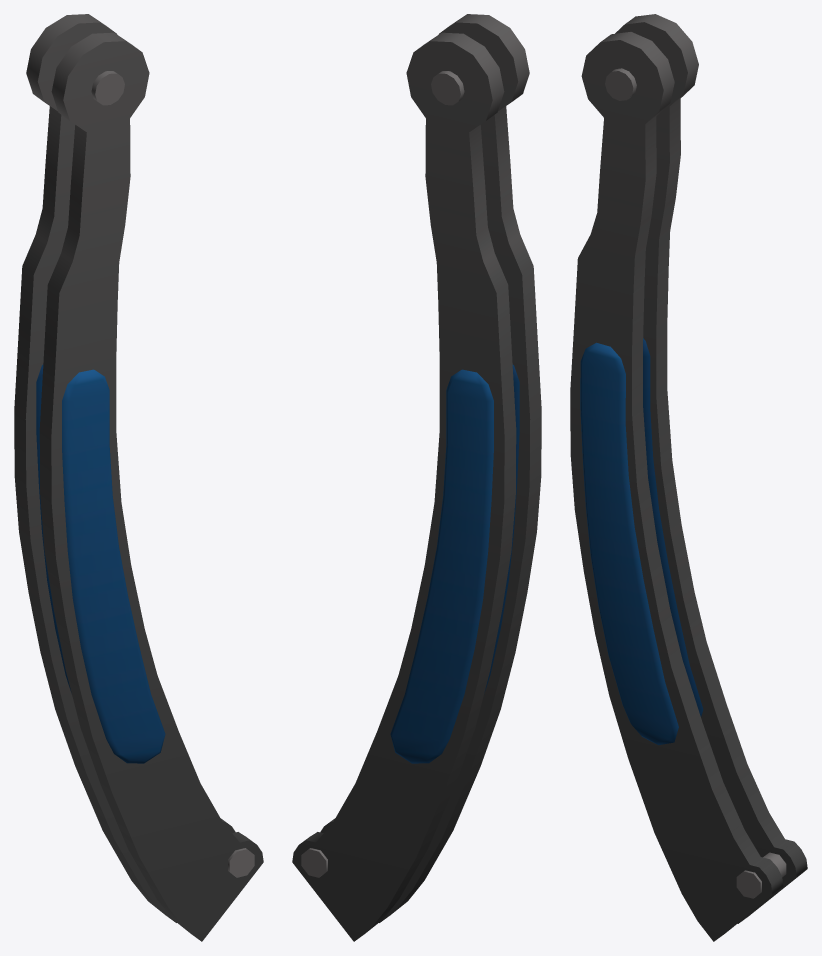
Rendered from Knife_01_HandleR.fbx.
3 renders of one model, left to right at view 1: azimuth 30°, elevation 25°; view 2: azimuth 150°, elevation 25°; view 3: azimuth 330°, elevation 25°, orthographic. The views are drawn at different scales.
Parts seen in each view (by area): view 1: Knife_01_HandleR; view 2: Knife_01_HandleR; view 3: Knife_01_HandleR.
Part boxes in pixels (box(x1,y1,x2,y2)): Knife_01_HandleR: box(14, 14, 263, 941); Knife_01_HandleR: box(292, 14, 541, 941); Knife_01_HandleR: box(570, 14, 807, 941).
Size of the model in its own units: 4.94 by 20.53 by 1.79.
